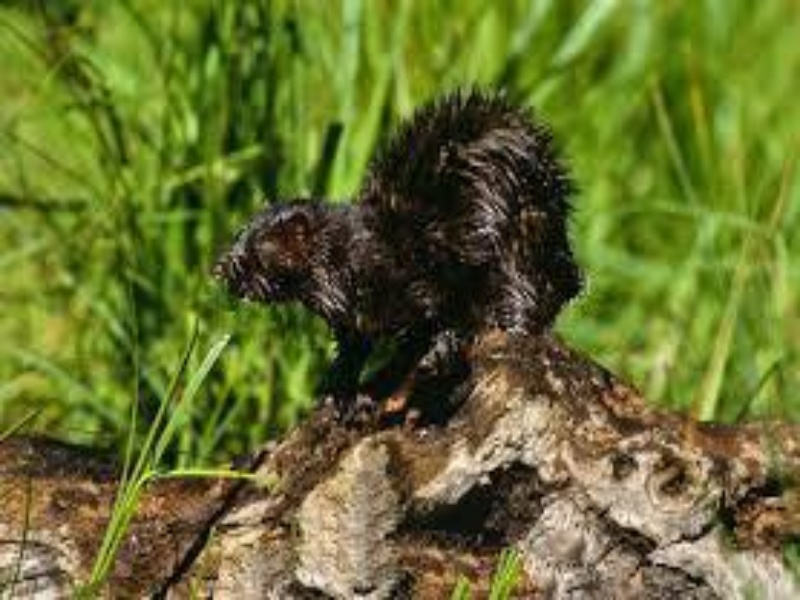minkish: (216, 82, 590, 435)
